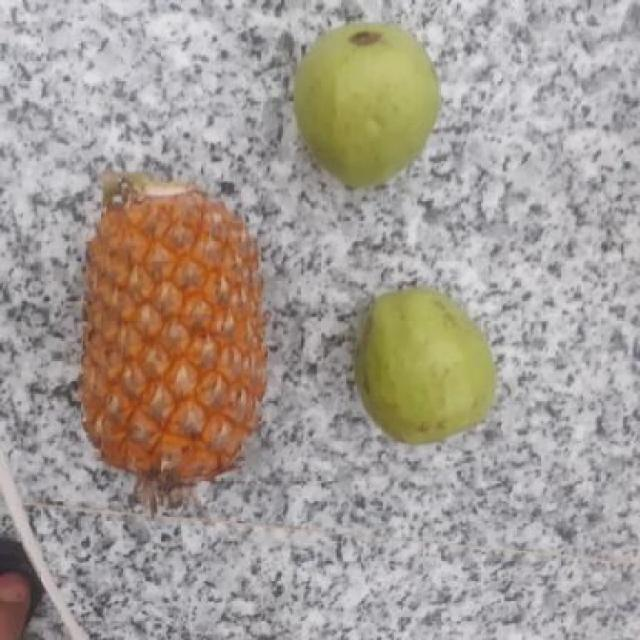guava: (286, 22, 449, 191), (348, 288, 499, 442)
pineapple: (76, 159, 267, 496)
